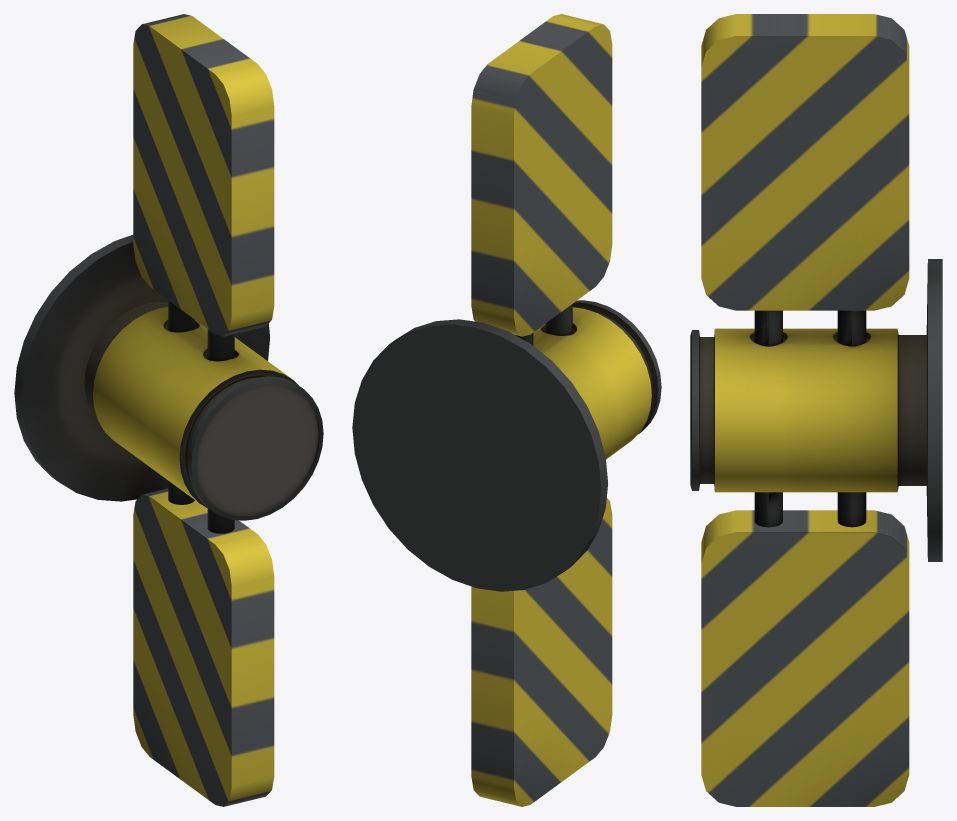
File: RotateBarrier.obj
3 renders of one model, left to right at view 1: azimuth 30°, elevation 25°; view 2: azimuth 150°, elevation 25°; view 3: azimuth 270°, elevation 25°, orthographic. The views are drawn at different scales.
Visible parts, largest first — view 1: Barrier, BarrierBase; view 2: Barrier, BarrierBase; view 3: Barrier, BarrierBase.
Part boxes in pixels (bbox=[...]): Barrier: bbox=[93, 14, 291, 806]; BarrierBase: bbox=[14, 235, 323, 520]; Barrier: bbox=[471, 14, 651, 806]; BarrierBase: bbox=[352, 300, 661, 591]; Barrier: bbox=[701, 14, 909, 806]; BarrierBase: bbox=[690, 259, 942, 561].
Size of the model in its own units: 2 by 5.61 by 1.66.
Materials: 1 (1 with a texture image).
